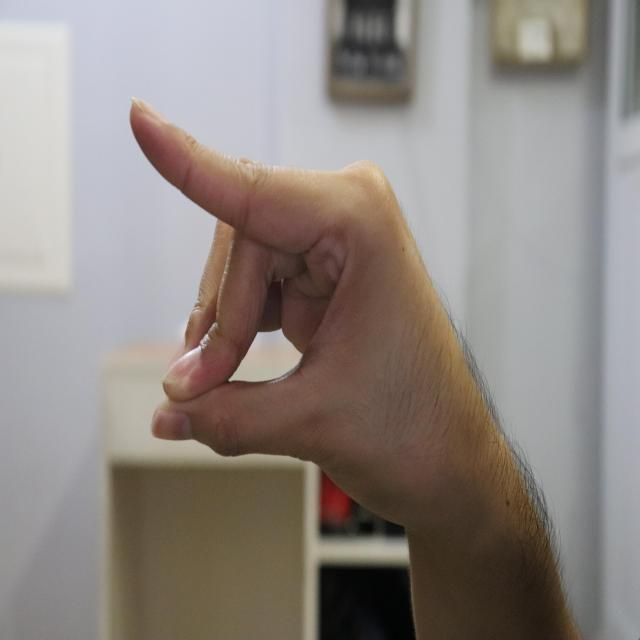D: (130, 95, 483, 528)
